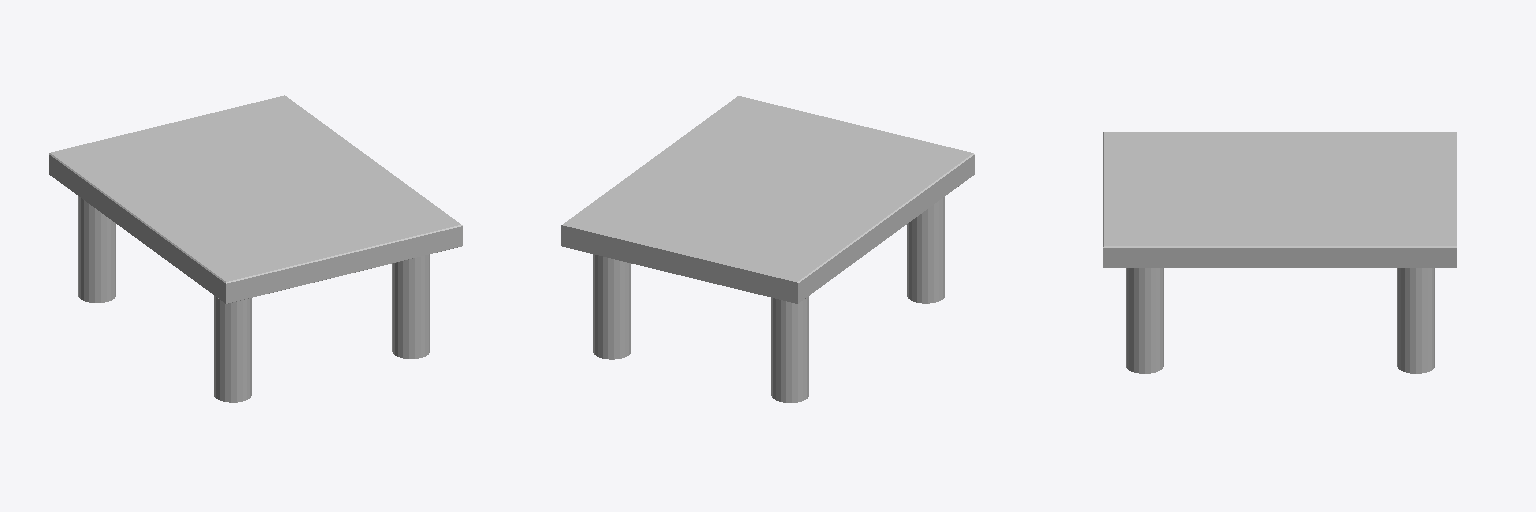
File: Table Mesh.obj
The picture shows the model from 3 angles: view 1: azimuth 30°, elevation 25°; view 2: azimuth 150°, elevation 25°; view 3: azimuth 270°, elevation 25°; orthographic projection.
Visible parts, largest first — view 1: pCylinder2; view 2: pCylinder2; view 3: pCylinder2.
Part boxes in pixels (left/top/right/bottom): pCylinder2: left=49, top=95, right=462, bottom=402; pCylinder2: left=561, top=96, right=974, bottom=402; pCylinder2: left=1103, top=132, right=1456, bottom=373.
Bounding box in the file's own units: 11.61 × 6.27 × 15.03.